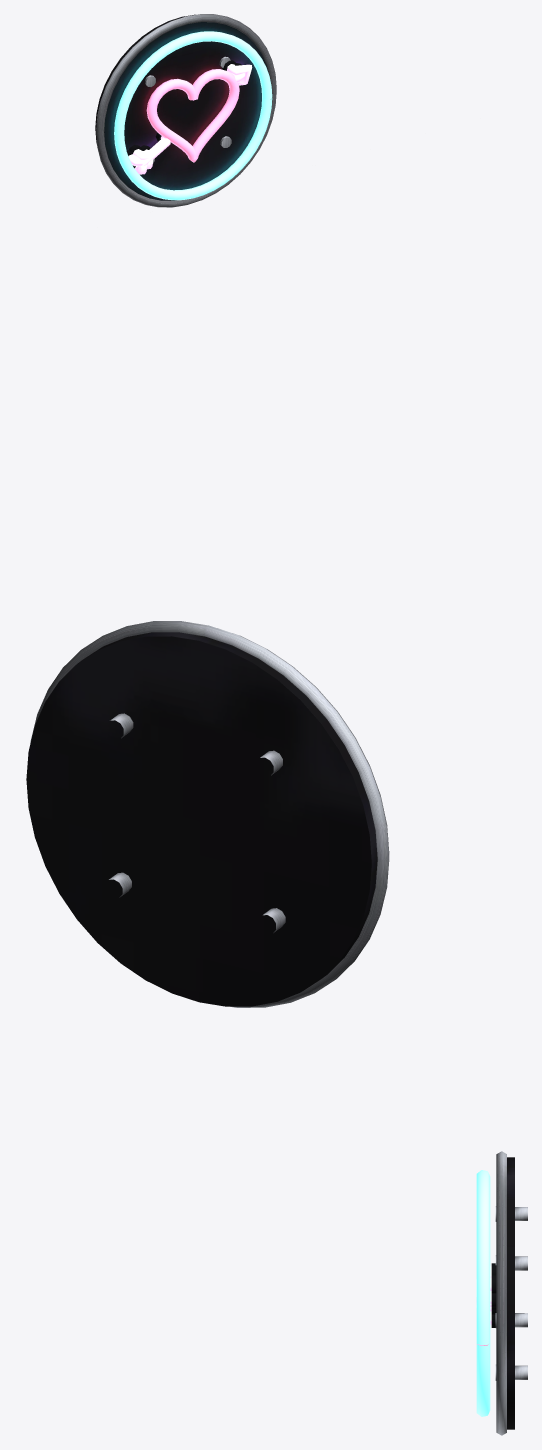
The model's file is prop_neonHeart.glb.
3 renders of one model, top to bottom at view 1: azimuth 30°, elevation 25°; view 2: azimuth 150°, elevation 25°; view 3: azimuth 270°, elevation 25°, orthographic. The views are drawn at different scales.
Parts seen in each view (by area): view 1: prop; view 2: prop; view 3: prop.
Boxes of the visible parts, x1,y1,x2,y2 form: prop: (95,14,276,207); prop: (26,621,389,1007); prop: (476,1151,527,1435).
Bounding box in the file's own units: 1 × 0.6 × 1.
Materials: 9 (4 with a texture image).
